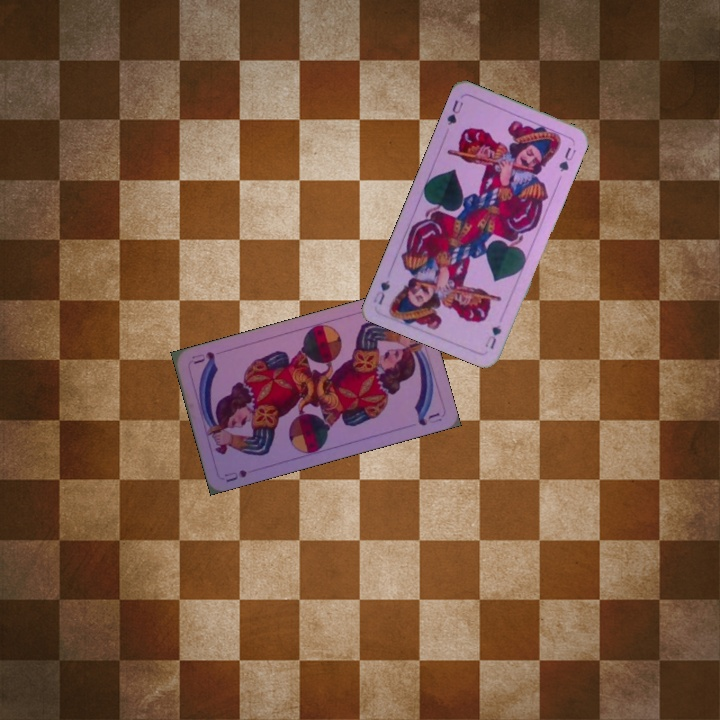GU: (443, 96, 466, 128), (481, 321, 504, 352)
SU: (220, 466, 250, 485)
